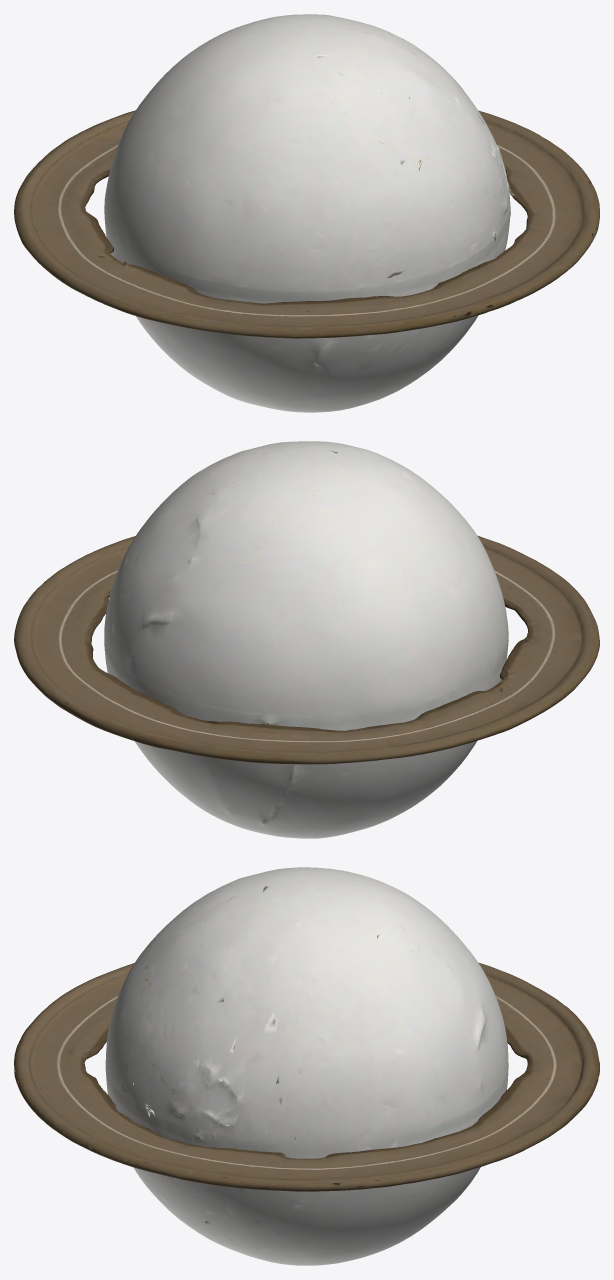
The model's file is apex-cosmos-planeta.glb.
The picture shows the model from 3 angles, top to bottom: view 1: azimuth 30°, elevation 25°; view 2: azimuth 150°, elevation 25°; view 3: azimuth 270°, elevation 25°; orthographic projection.
Bounding box in the file's own units: 2 × 1.34 × 2.
Materials: 1 (1 with a texture image).
